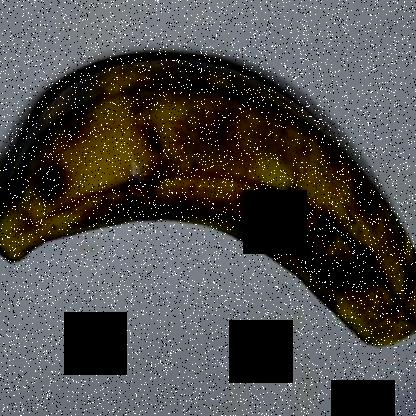overripe: (1, 48, 415, 353)
